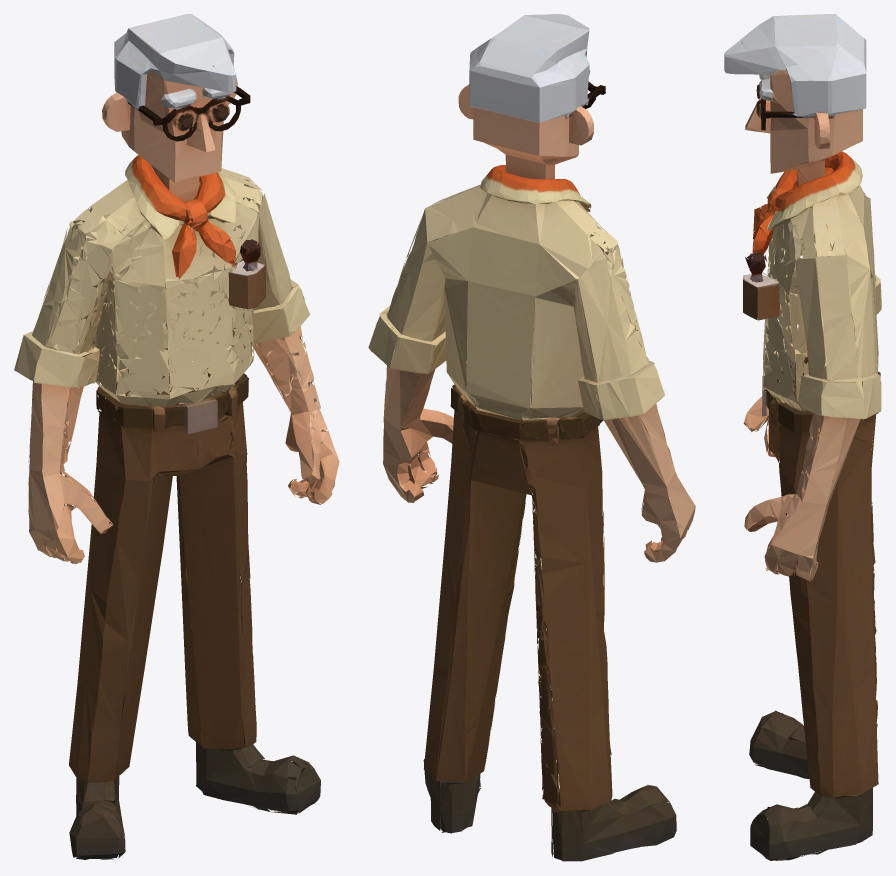
Rendered from habitant.glb.
3 renders of one model, left to right at view 1: azimuth 30°, elevation 25°; view 2: azimuth 150°, elevation 25°; view 3: azimuth 270°, elevation 25°, orthographic. The views are drawn at different scales.
Parts seen in each view (by area): view 1: world; view 2: world; view 3: world.
Part boxes in pixels (<box>): world: <box>14,14,339,859</box>; world: <box>368,14,695,861</box>; world: <box>724,14,881,860</box>.
Bounding box in the file's own units: 0.3941 × 1 × 0.1843.
1 material, 1 textured.
